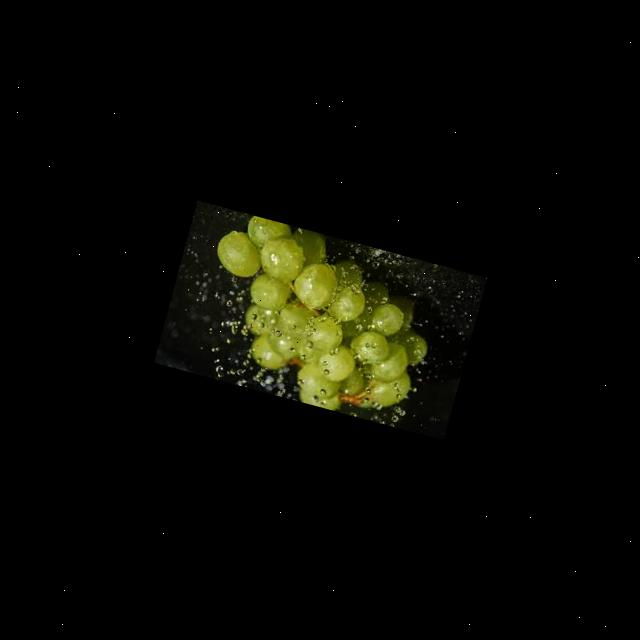grape: (182, 209, 448, 430)
